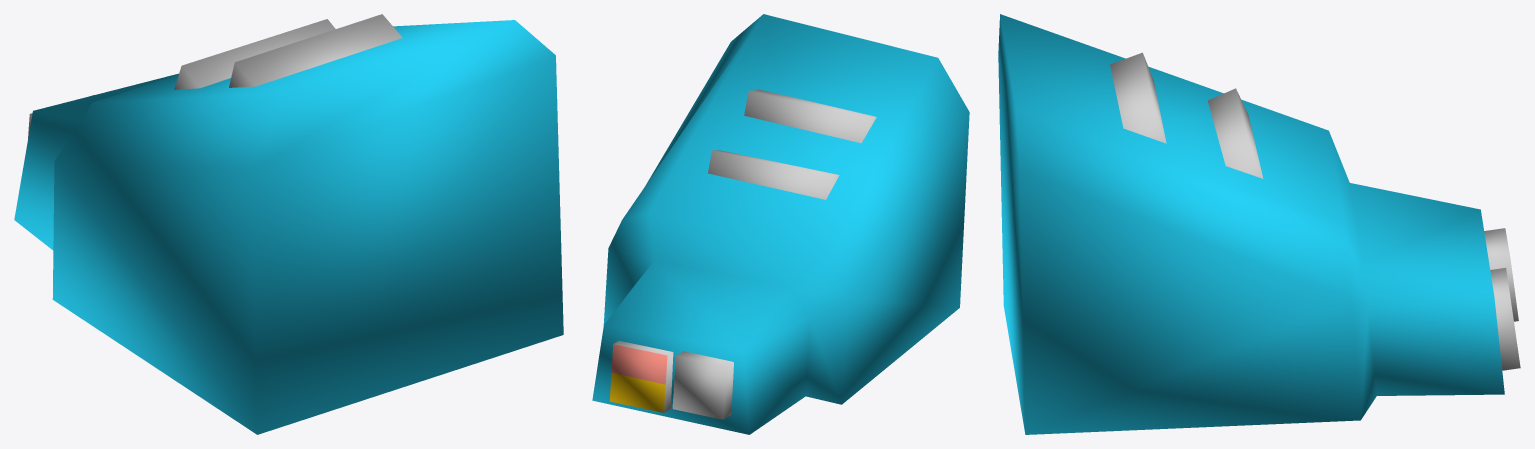
Rendered from foot_left.gltf.
3 views of the same model, side by side, from view 1: azimuth 30°, elevation 25°; view 2: azimuth 150°, elevation 25°; view 3: azimuth 270°, elevation 25° (orthographic). The views are drawn at different scales.
Parts seen in each view (by area): view 1: group1753666244; view 2: group1753666244; view 3: group1753666244.
Boxes of the visible parts, bbox=[...] form: group1753666244: bbox=[14, 14, 563, 434]; group1753666244: bbox=[592, 14, 969, 434]; group1753666244: bbox=[998, 14, 1520, 434].
Size of the model in its own units: 0.0844 by 0.0814 by 0.1222.
